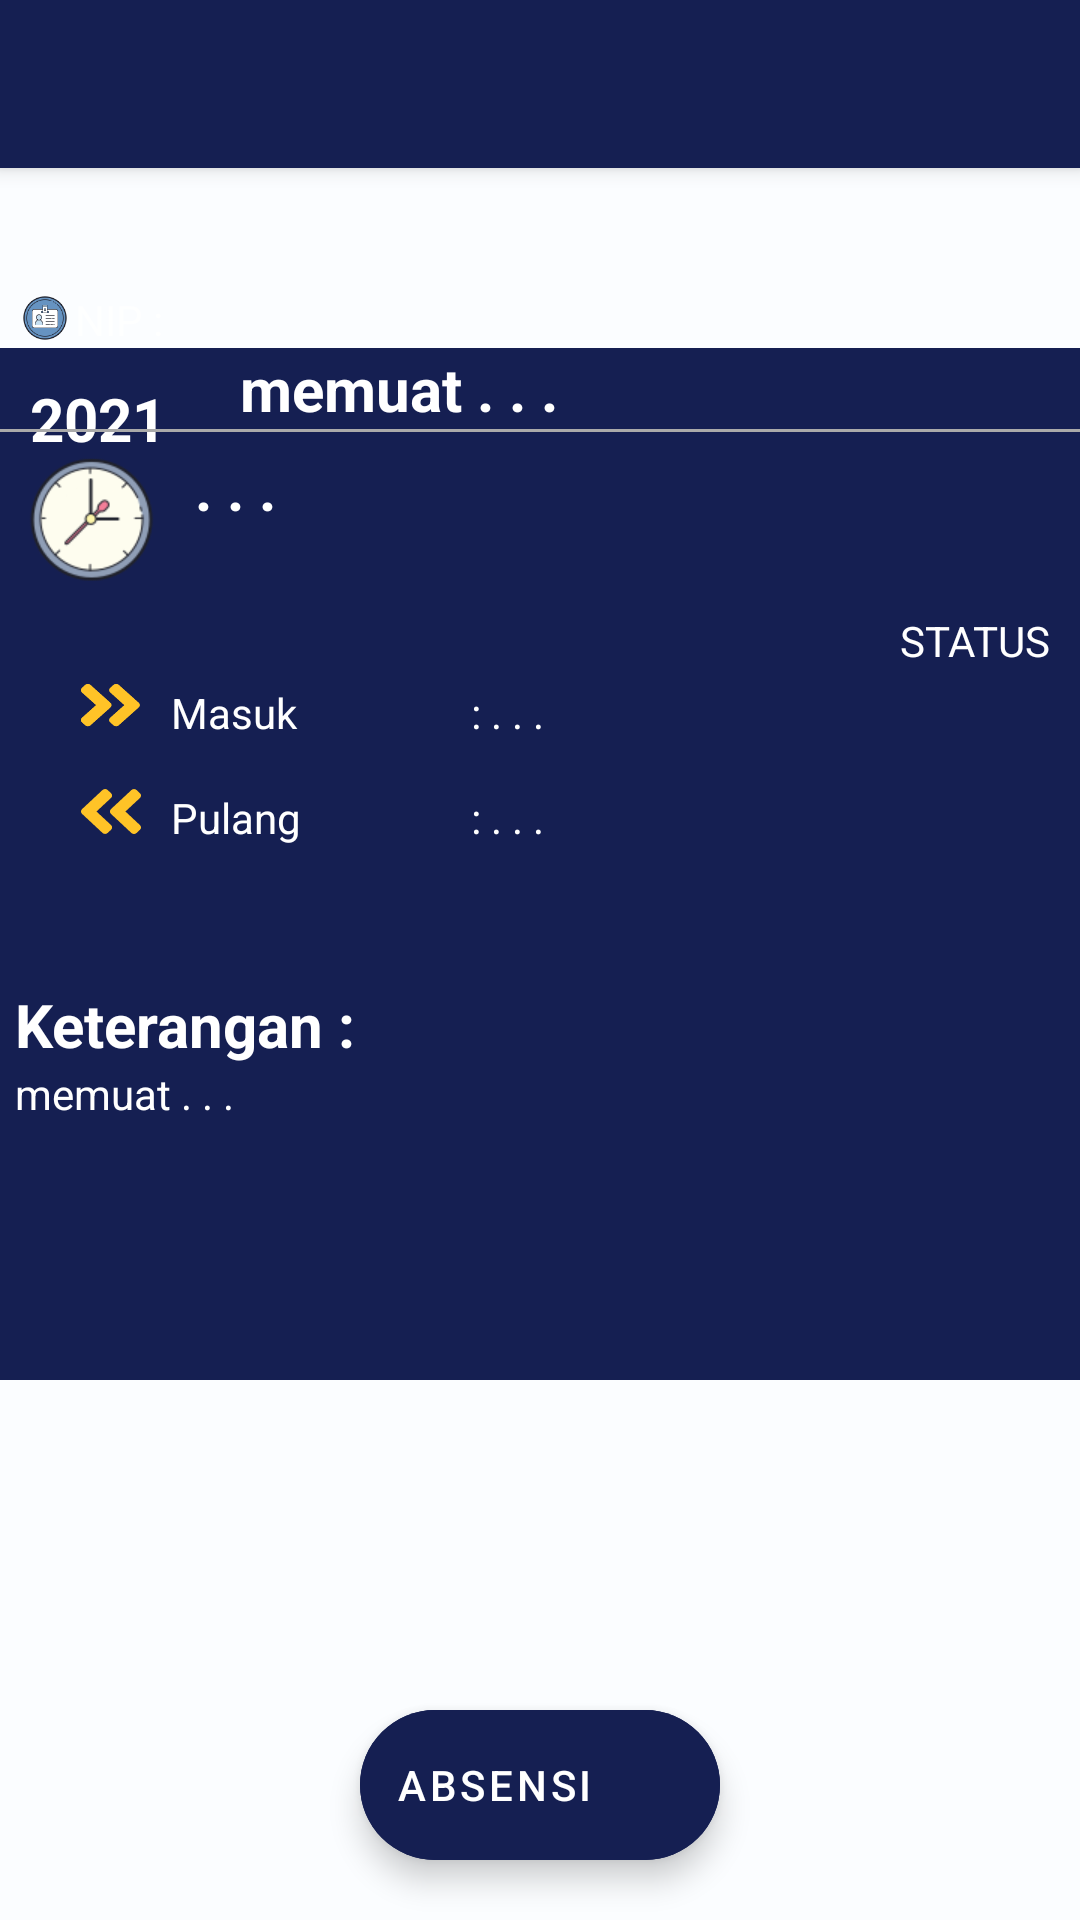

Point at icon controls on the screen. Image size 1080 × 1920, points as point (x, y).
clockdate: point (91, 519)
